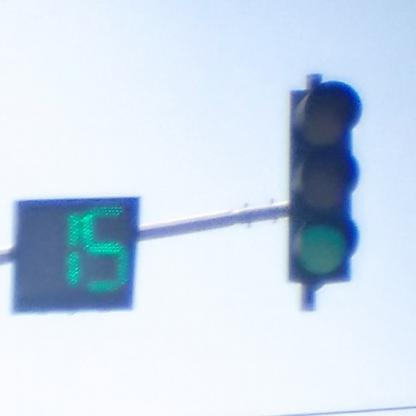green: (288, 83, 361, 284)
